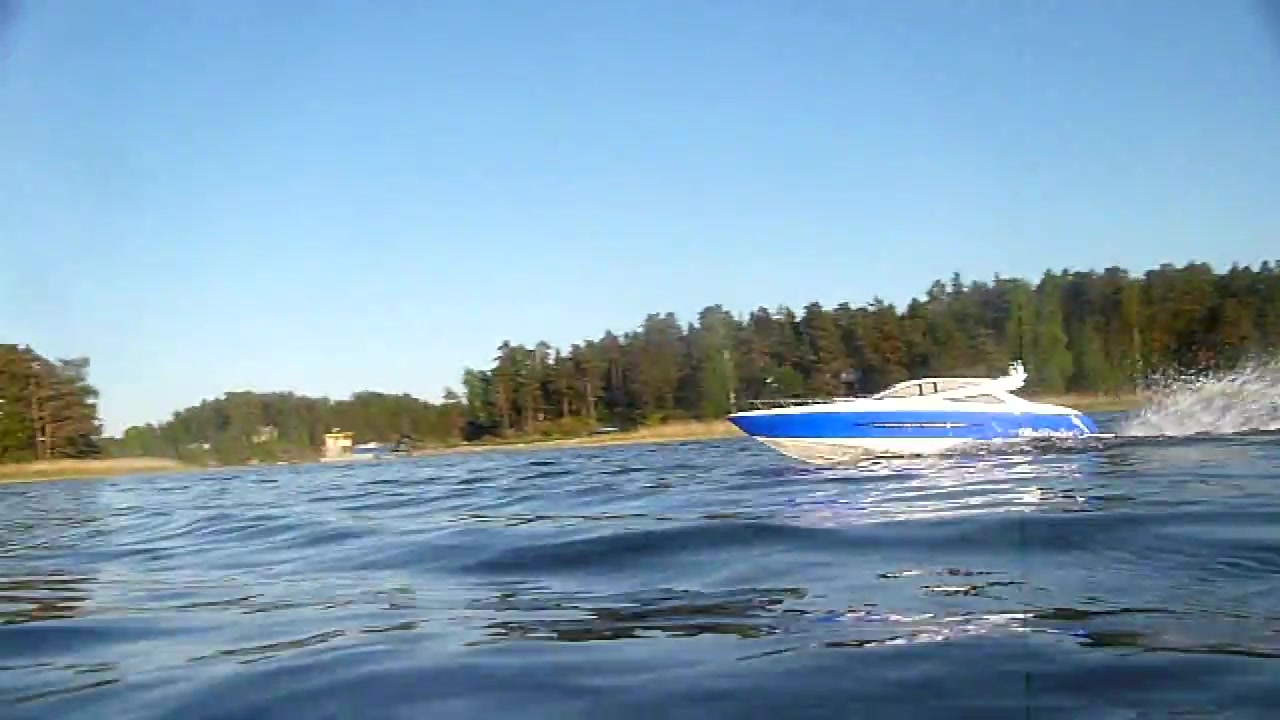boat: (729, 363, 1104, 466)
